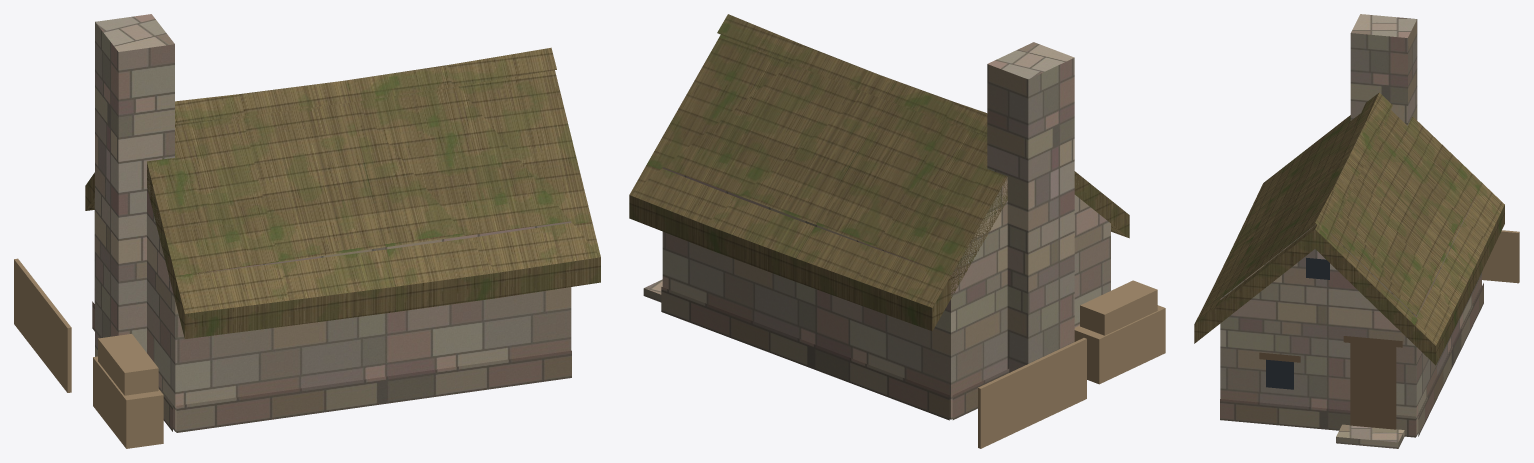
The picture shows the model from 3 angles, left to right: view 1: azimuth 30°, elevation 25°; view 2: azimuth 150°, elevation 25°; view 3: azimuth 270°, elevation 25°; orthographic projection. The views are drawn at different scales.
Parts seen in each view (by area): view 1: b001088_thatch, b001088_wall, b001088_base, b001088_wood; view 2: b001088_thatch, b001088_wall, b001088_wood, b001088_base; view 3: b001088_thatch, b001088_wall, b001088_base, b001088_oak, b001088_wood, b001088_glass.
Boxes of the visible parts, x1,y1,x2,y2 form: b001088_thatch: [85, 47, 600, 338]; b001088_wall: [94, 14, 571, 431]; b001088_base: [92, 301, 571, 432]; b001088_wood: [14, 258, 163, 448]; b001088_thatch: [629, 14, 1129, 331]; b001088_wall: [643, 42, 1110, 419]; b001088_wood: [978, 280, 1165, 448]; b001088_base: [661, 287, 1009, 420]; b001088_thatch: [1194, 92, 1504, 365]; b001088_wall: [1220, 14, 1481, 448]; b001088_base: [1220, 283, 1483, 437]; b001088_oak: [1259, 336, 1402, 429]; b001088_wood: [1482, 230, 1519, 283]; b001088_glass: [1266, 258, 1329, 389].
Bounding box in the file's own units: 7.84 × 5.35 × 5.87.
Materials: 6 (3 with a texture image).
